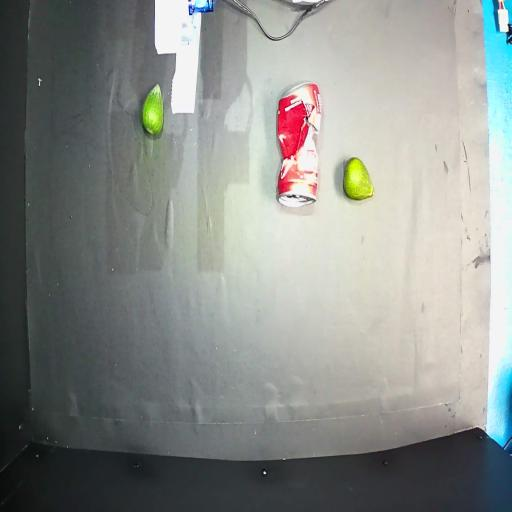higo: (344, 158, 374, 200), (142, 84, 163, 135)
lata_defectuoso: (277, 83, 322, 206)
